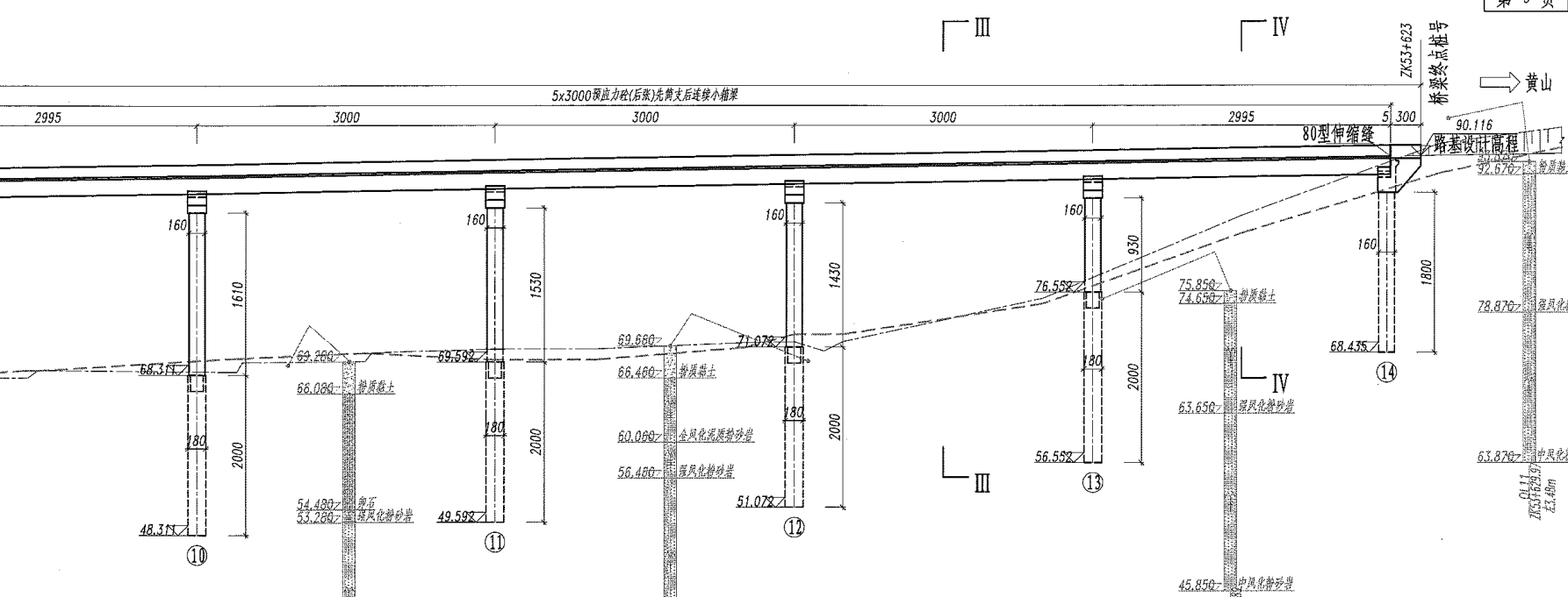B: (4, 86, 1402, 113)
C: (721, 172, 838, 562), (427, 181, 530, 568), (1016, 170, 1133, 504), (133, 188, 212, 576), (428, 175, 525, 451), (726, 170, 825, 439), (1320, 153, 1413, 388)
